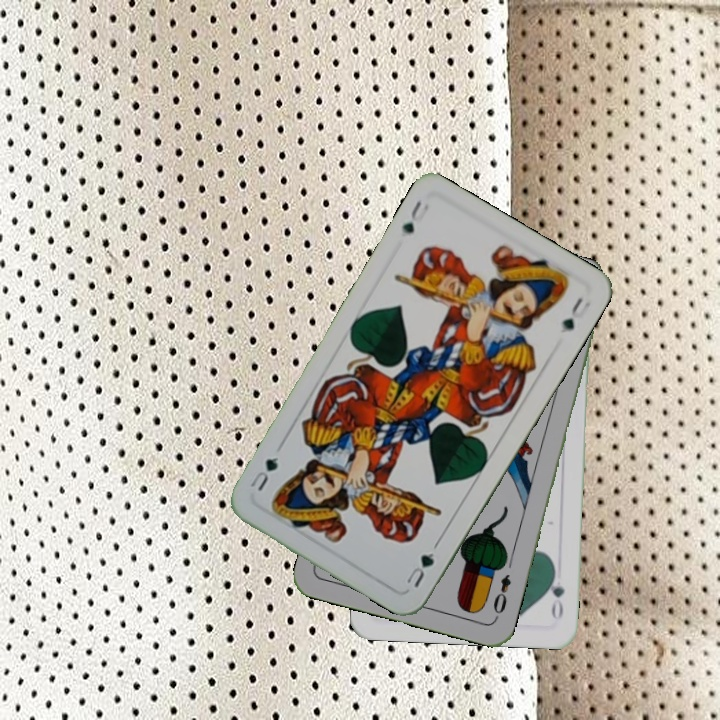EO: (489, 570, 514, 622)
GO: (544, 564, 567, 623)
GU: (402, 548, 437, 590), (397, 196, 432, 237)
